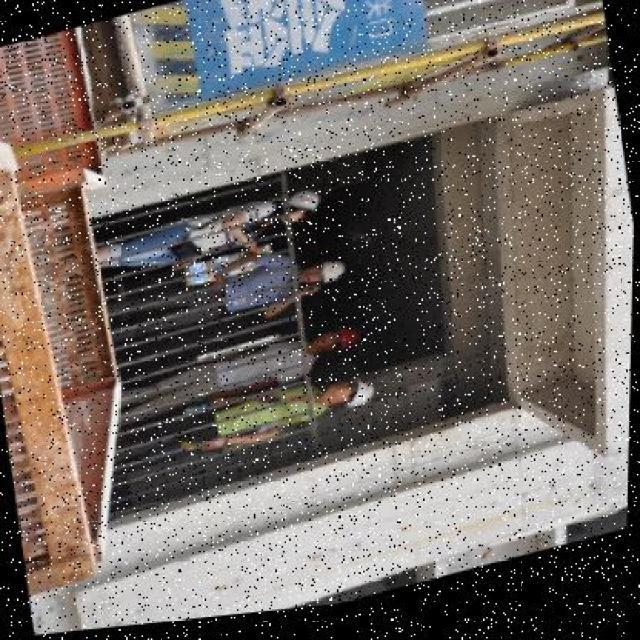helmet: (345, 380, 381, 415), (315, 262, 349, 294), (293, 189, 321, 219), (337, 332, 363, 352)
